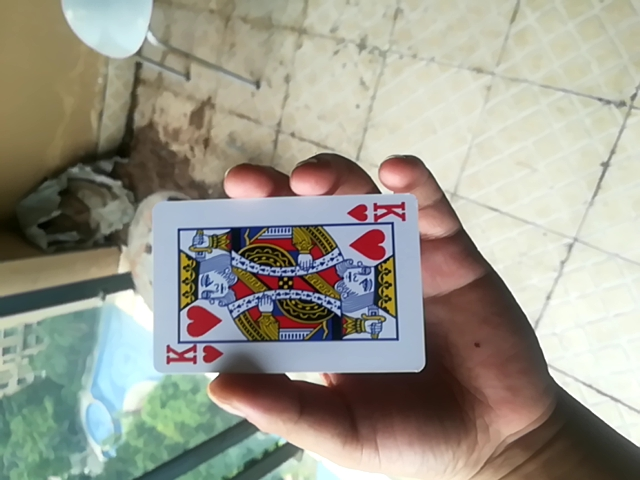hx k: (149, 186, 423, 379)
